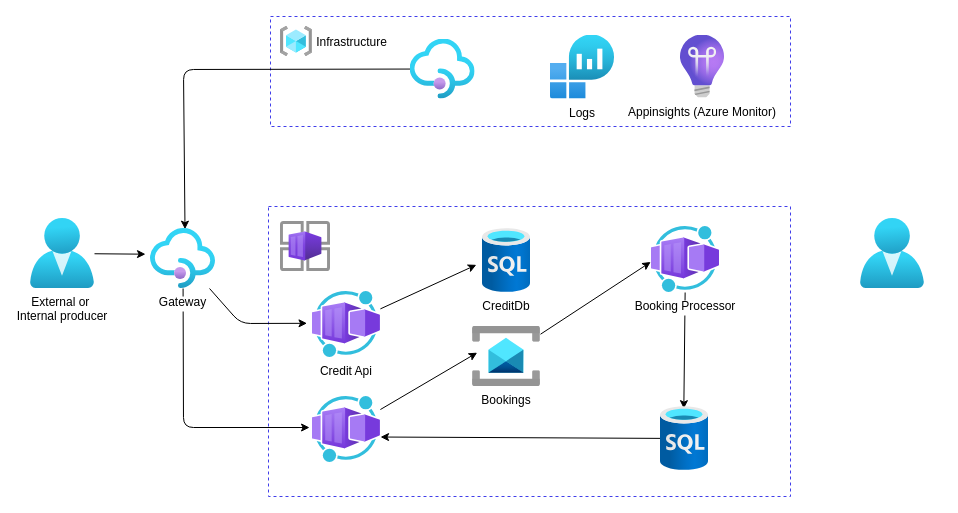
Some shapes in this 958 by 513 pixel diagram are drawn without their labels. The shapes that lost their labels are listed below. From the top down, each one's centre as x and y in pixels, then its label:
point 442,68: Integration or Central APIM
point 892,253: External or Internal consumer
point 346,429: Booking Api
point 684,438: Booking
